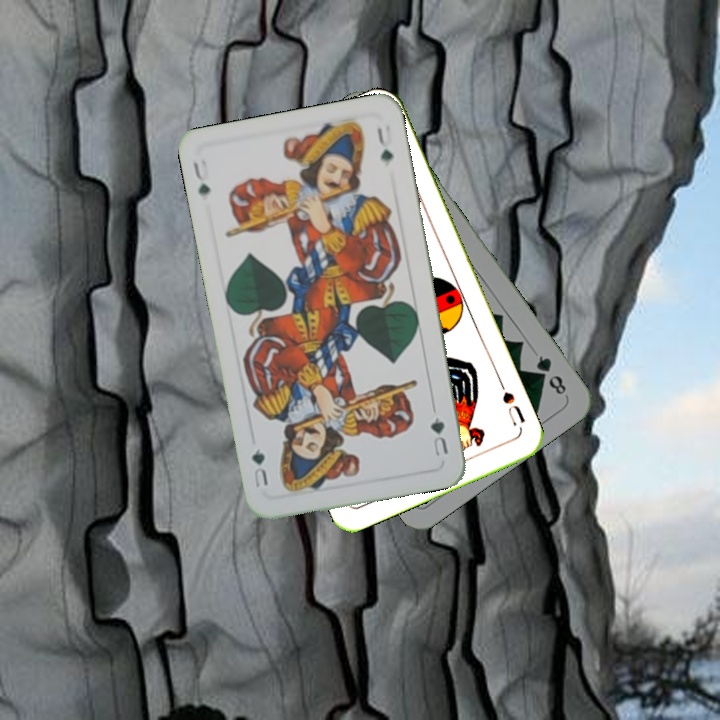G8: (532, 351, 569, 398)
GU: (426, 413, 451, 459), (189, 155, 213, 200)
SU: (495, 377, 528, 429)
